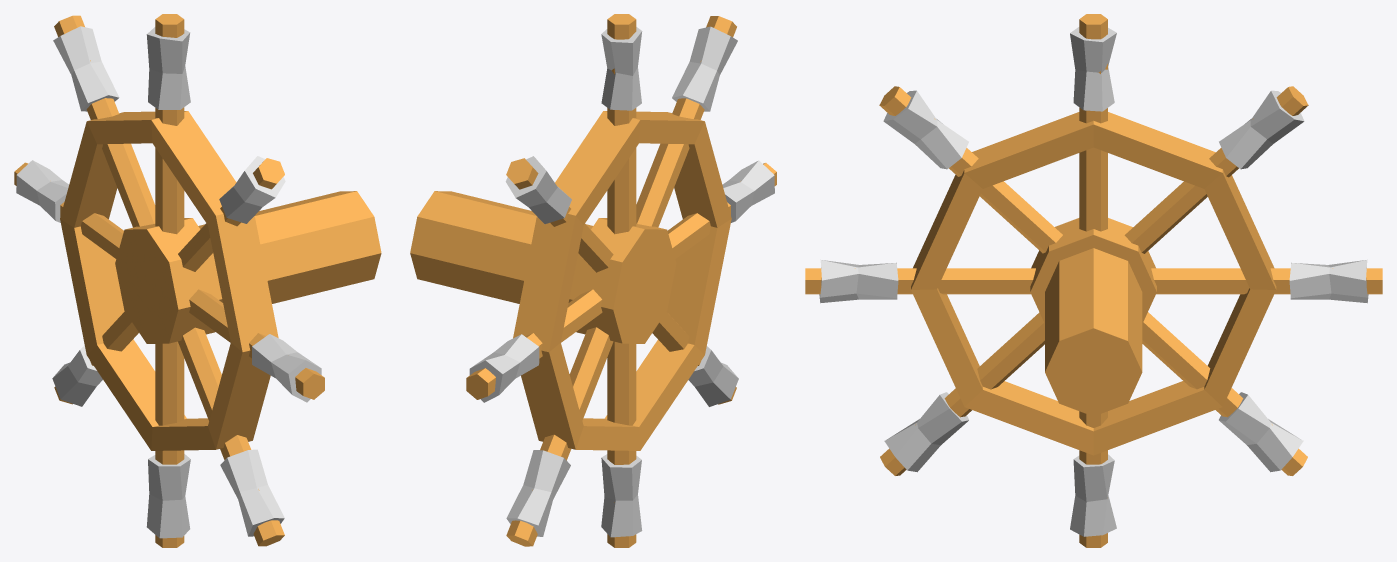
The model's file is rudder.fbx.
3 renders of one model, left to right at view 1: azimuth 30°, elevation 25°; view 2: azimuth 150°, elevation 25°; view 3: azimuth 270°, elevation 25°, orthographic.
Visible parts, largest first — view 1: rudder; view 2: rudder; view 3: rudder.
Part boxes in pixels (bbox=[...]): rudder: bbox=[14, 14, 381, 547]; rudder: bbox=[410, 14, 776, 547]; rudder: bbox=[805, 14, 1382, 547].
Bounding box in the file's own units: 0.6139 × 1.46 × 1.46.
